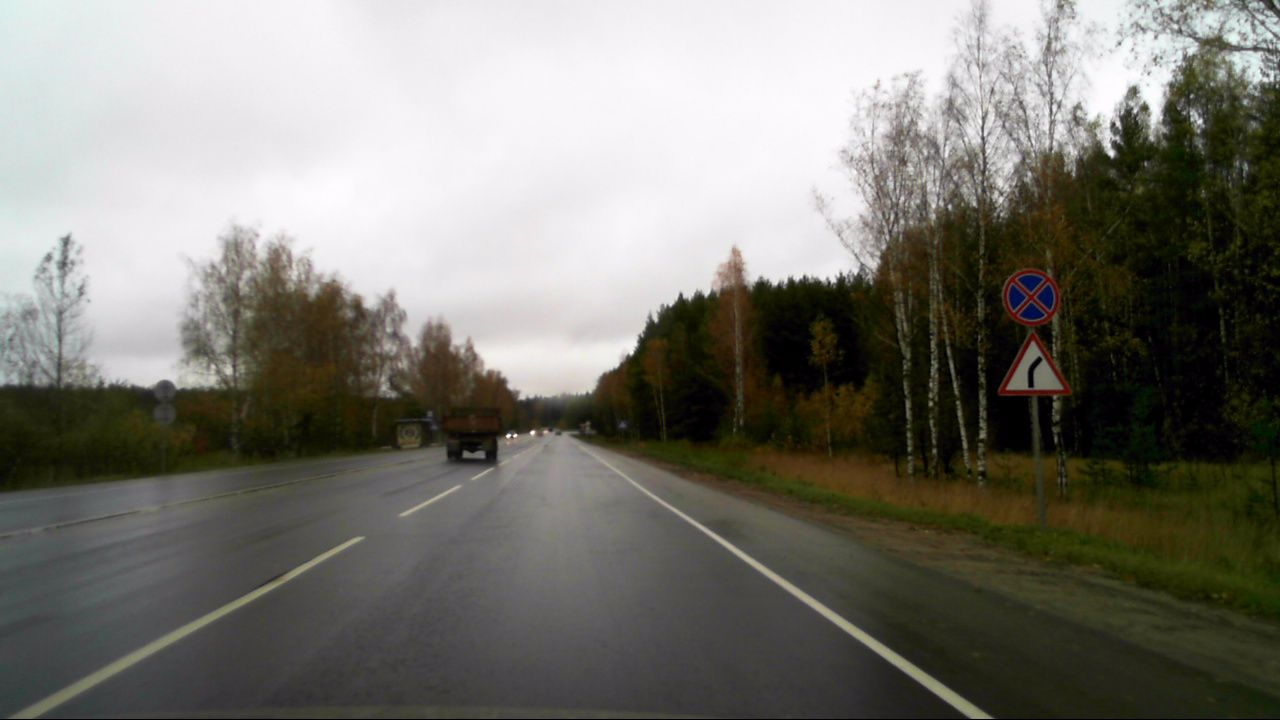No Parking: (999, 267, 1060, 328)
